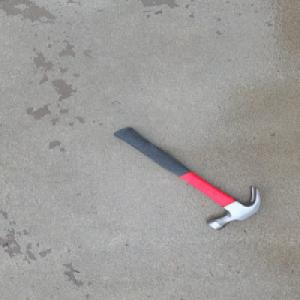Hammer: (111, 126, 262, 231)
